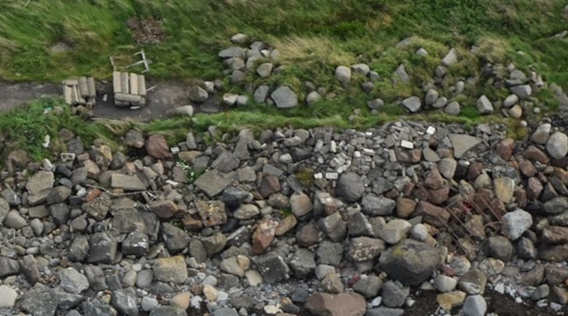cuboid: (440, 191, 507, 252), (105, 67, 151, 108), (57, 72, 97, 113), (104, 45, 154, 75)
scattered_barrel: (388, 118, 444, 154)
